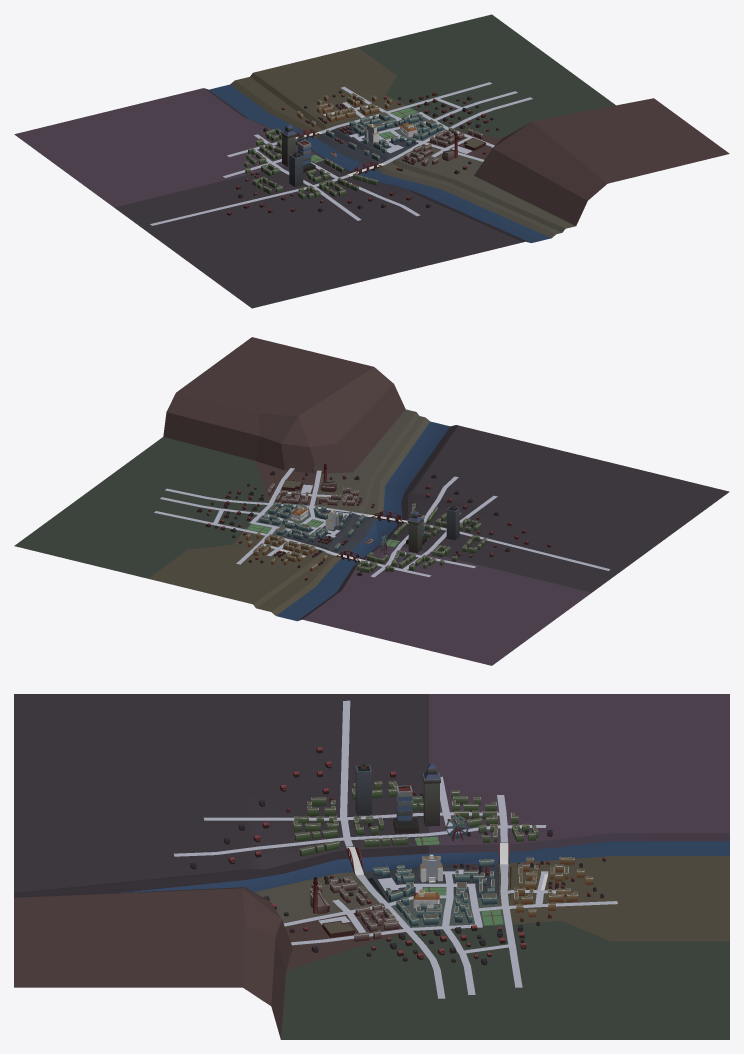
Rendered from CityLowPark.fbx.
3 renders of one model, top to bottom at view 1: azimuth 30°, elevation 25°; view 2: azimuth 150°, elevation 25°; view 3: azimuth 270°, elevation 25°, orthographic. The views are drawn at different scales.
Parts seen in each view (by area): view 1: Ground.001; view 2: Ground.001; view 3: Ground.001.
Boxes of the visible parts, <box> form: Ground.001: <box>14,14,729,308</box>; Ground.001: <box>14,337,729,665</box>; Ground.001: <box>14,694,729,1039</box>.
Size of the model in its own units: 22804 by 2206 by 19668.
